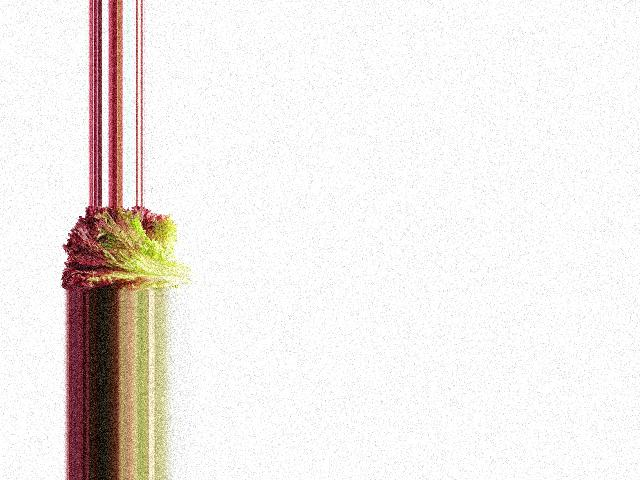lettuce: (53, 207, 196, 290)
